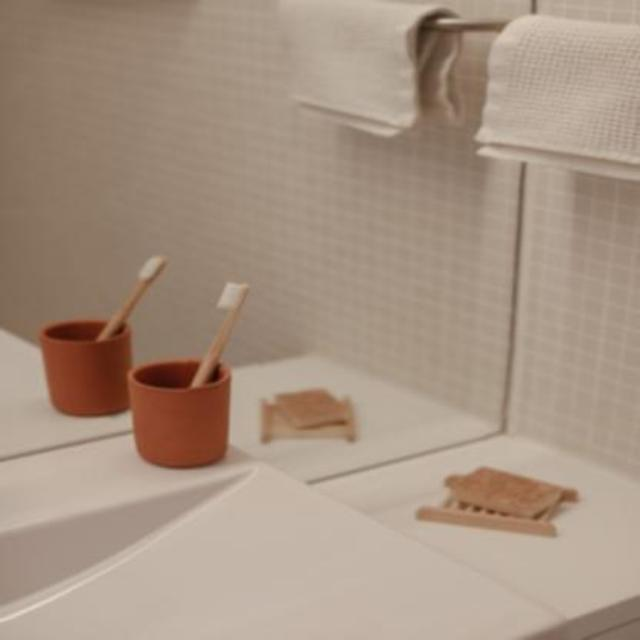toothbrush: (188, 277, 258, 393), (88, 251, 172, 341)
